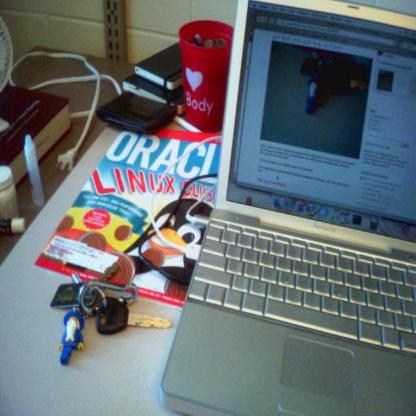board: (158, 4, 413, 410)
